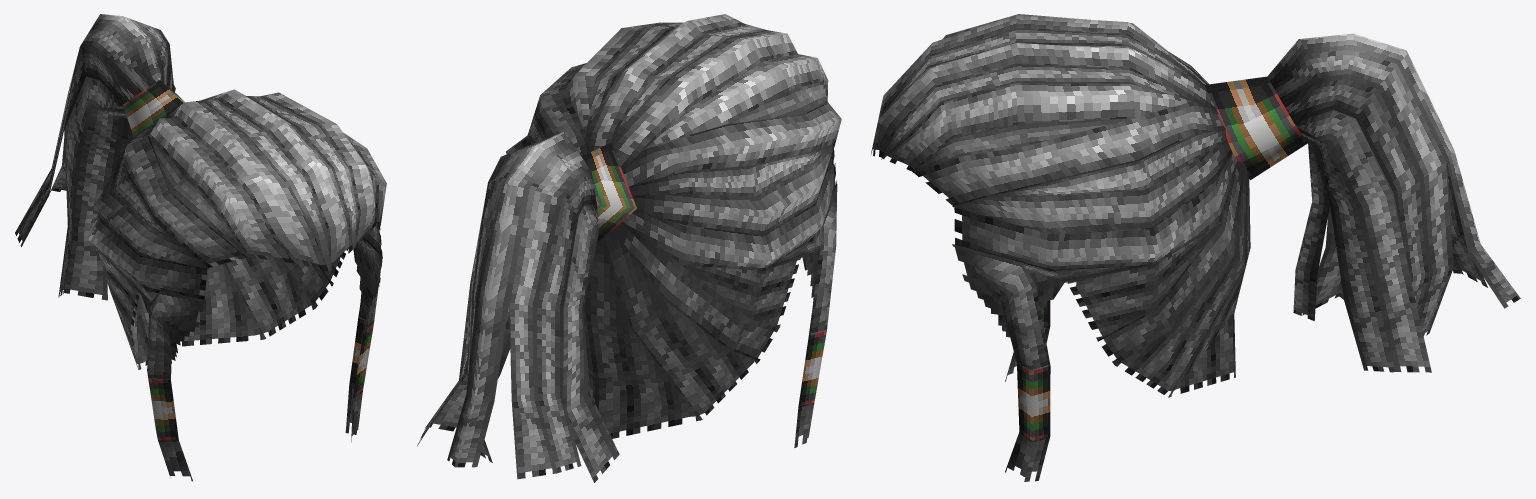
File: m_head026.glb
3 renders of one model, left to right at view 1: azimuth 30°, elevation 25°; view 2: azimuth 150°, elevation 25°; view 3: azimuth 270°, elevation 25°, orthographic. The views are drawn at different scales.
Bounding box in the file's own units: 16.81 × 23.11 × 34.04.
Materials: 1 (1 with a texture image).
